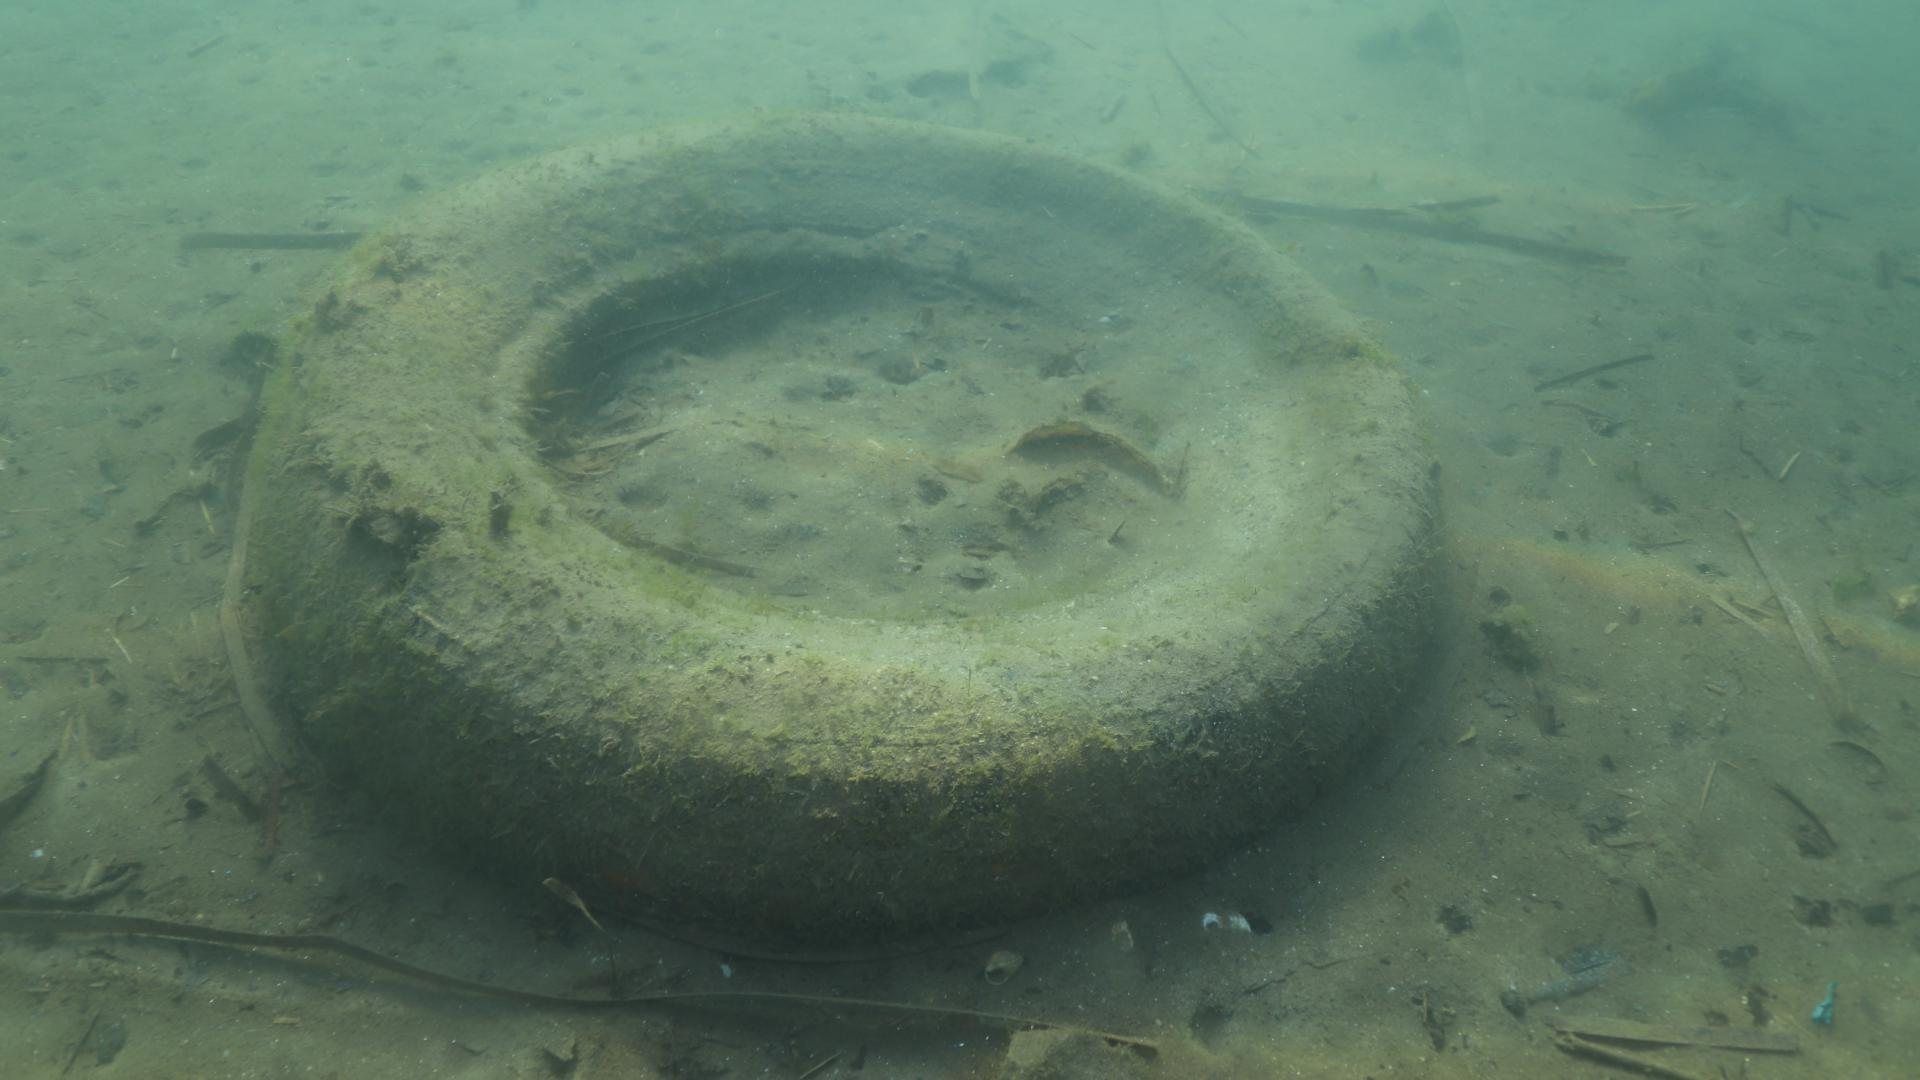tire: (252, 104, 1447, 932)
